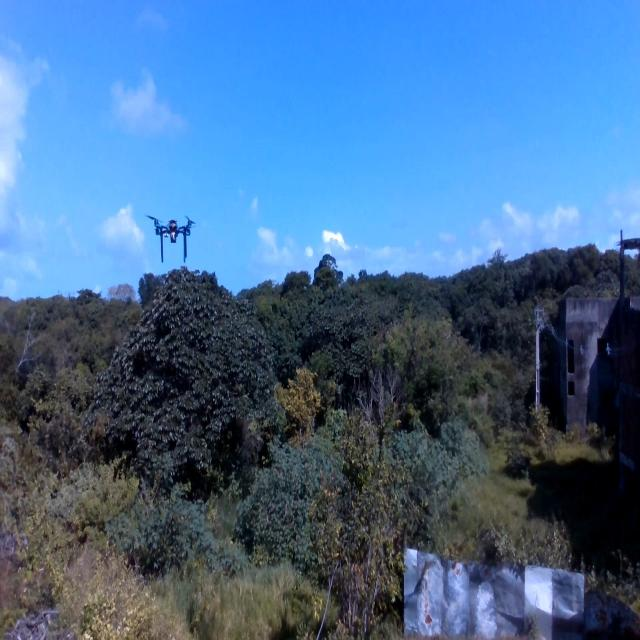-uav-: (141, 197, 200, 275)
